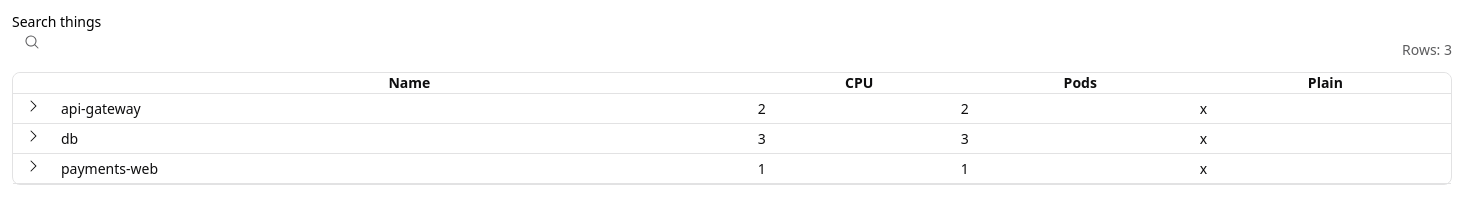
Scenario: data table › no match and empty table
Expected: the text "Rows: 3" is shown, [1402,40,1452,60]
Type "zzz" into the search field labelled "Search things" at (128,48), box [12,36,243,60]
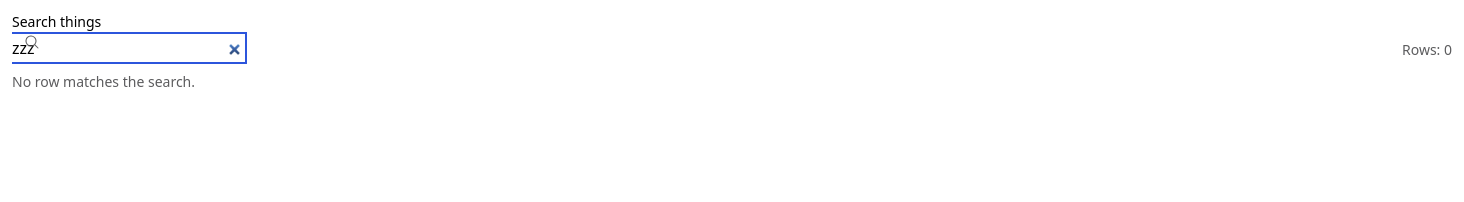
Result: the text "No row matches the search." is shown at [12,72,195,91]
Result: the table is gone
